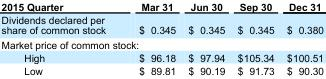table: (0, 1, 322, 75)
table column: (0, 1, 121, 75), (121, 1, 181, 75), (181, 1, 230, 75), (230, 1, 279, 75), (279, 1, 322, 75)
table column header: (0, 1, 322, 13)
table projected row header: (0, 37, 322, 51)
table row: (0, 13, 322, 37), (0, 37, 322, 51), (0, 1, 322, 13), (0, 51, 322, 63), (0, 63, 322, 75)
